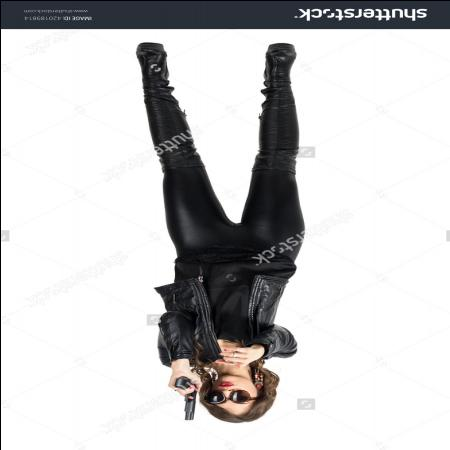Pistol: (170, 376, 198, 422)
